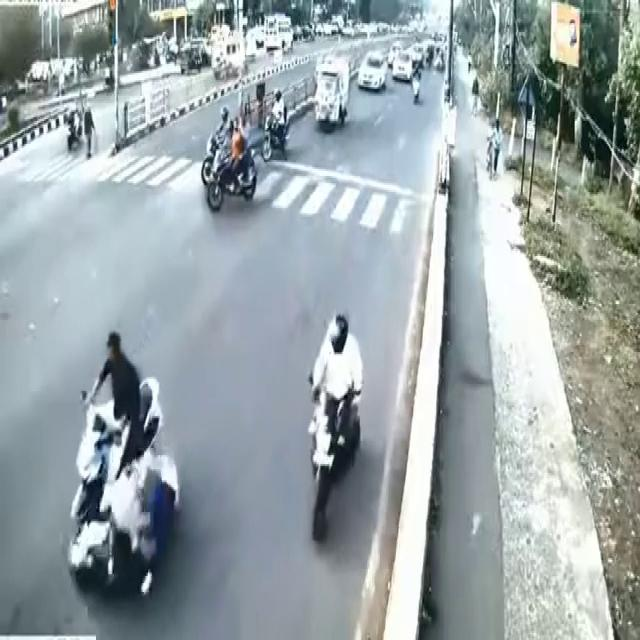accident: (59, 276, 202, 596)
